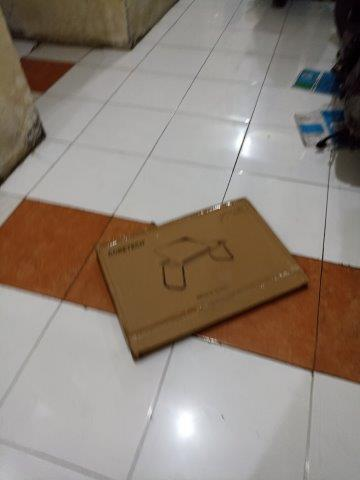kardus: (99, 200, 306, 353)
